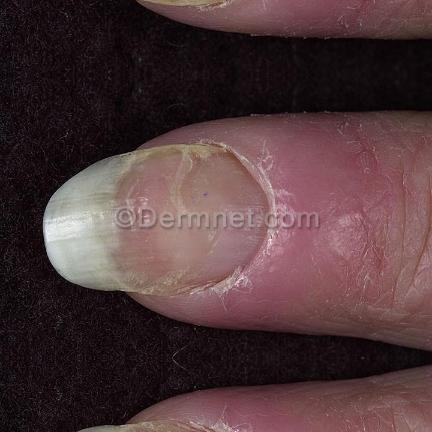Nail: (43, 142, 272, 294), (75, 421, 223, 432), (150, 0, 228, 6)
